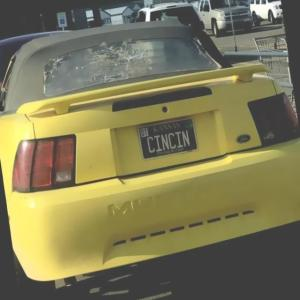Plate: (136, 117, 199, 161)
